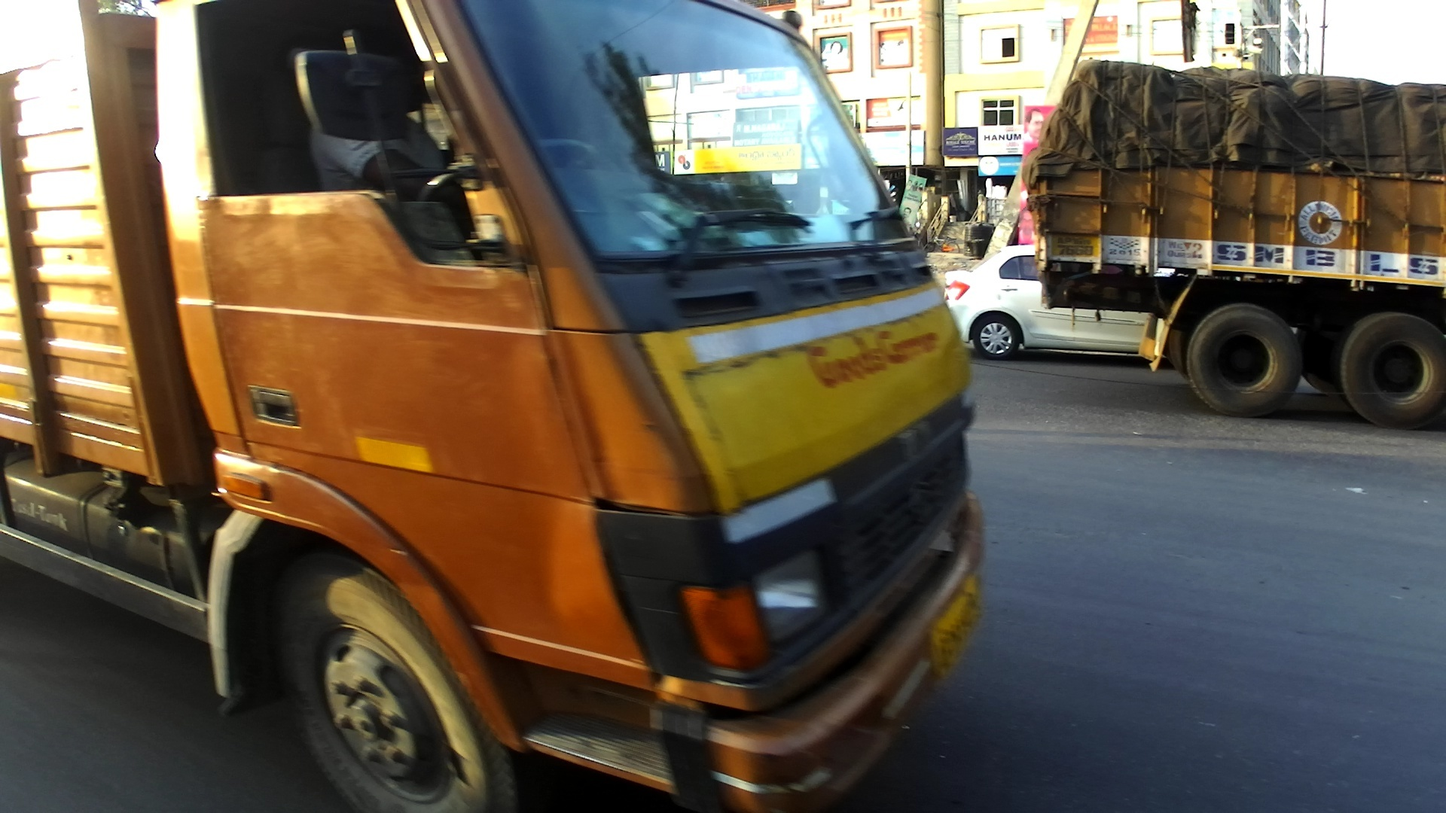car: (942, 241, 1176, 358)
truck: (1, 1, 995, 813), (1023, 59, 1446, 429)
